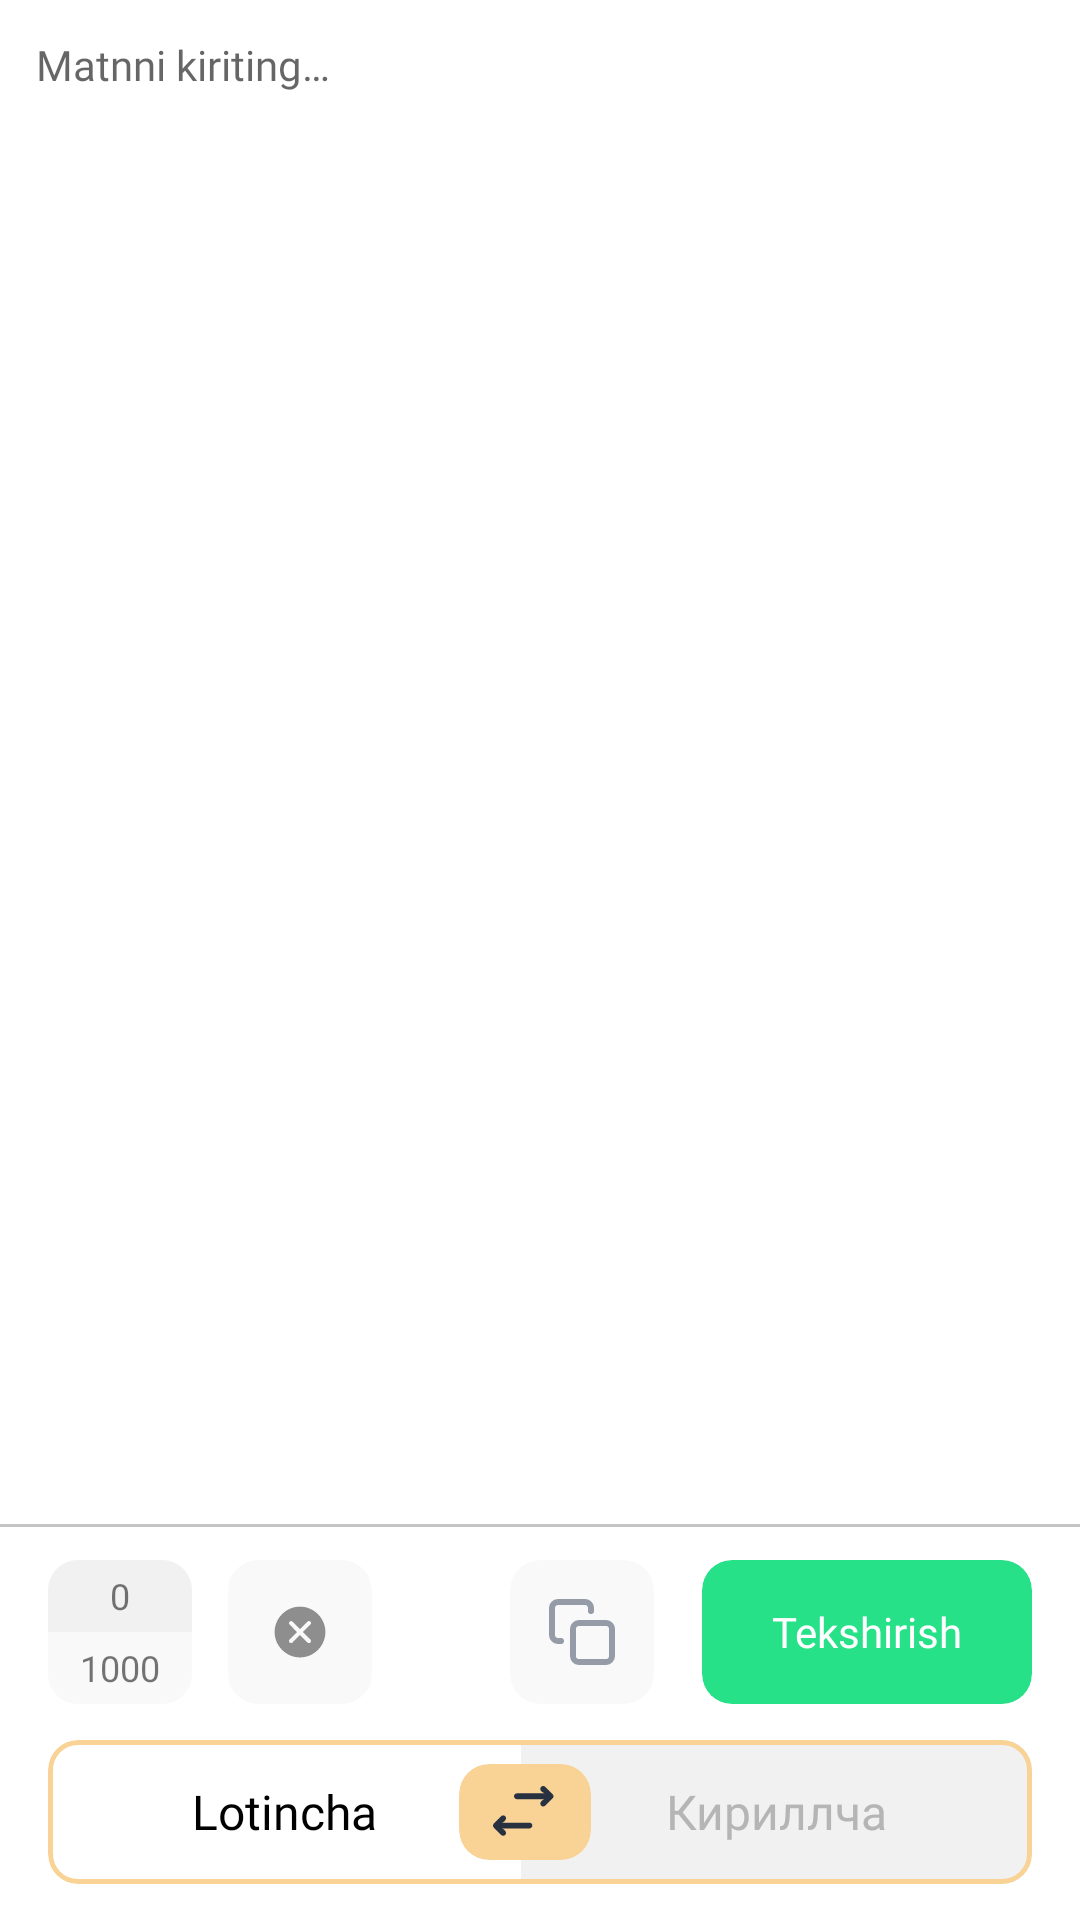

Named icons in this screenshot (1080w x 1920h) and their bounding boxes, rect(x1, y1, x2, y2):
arrow: rect(493, 1786, 554, 1836)
clear: rect(274, 1606, 326, 1658)
